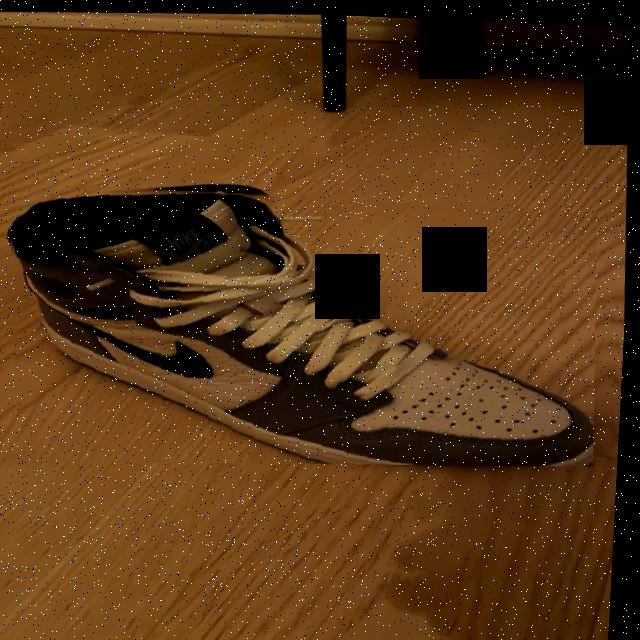shoe: (0, 160, 609, 480)
